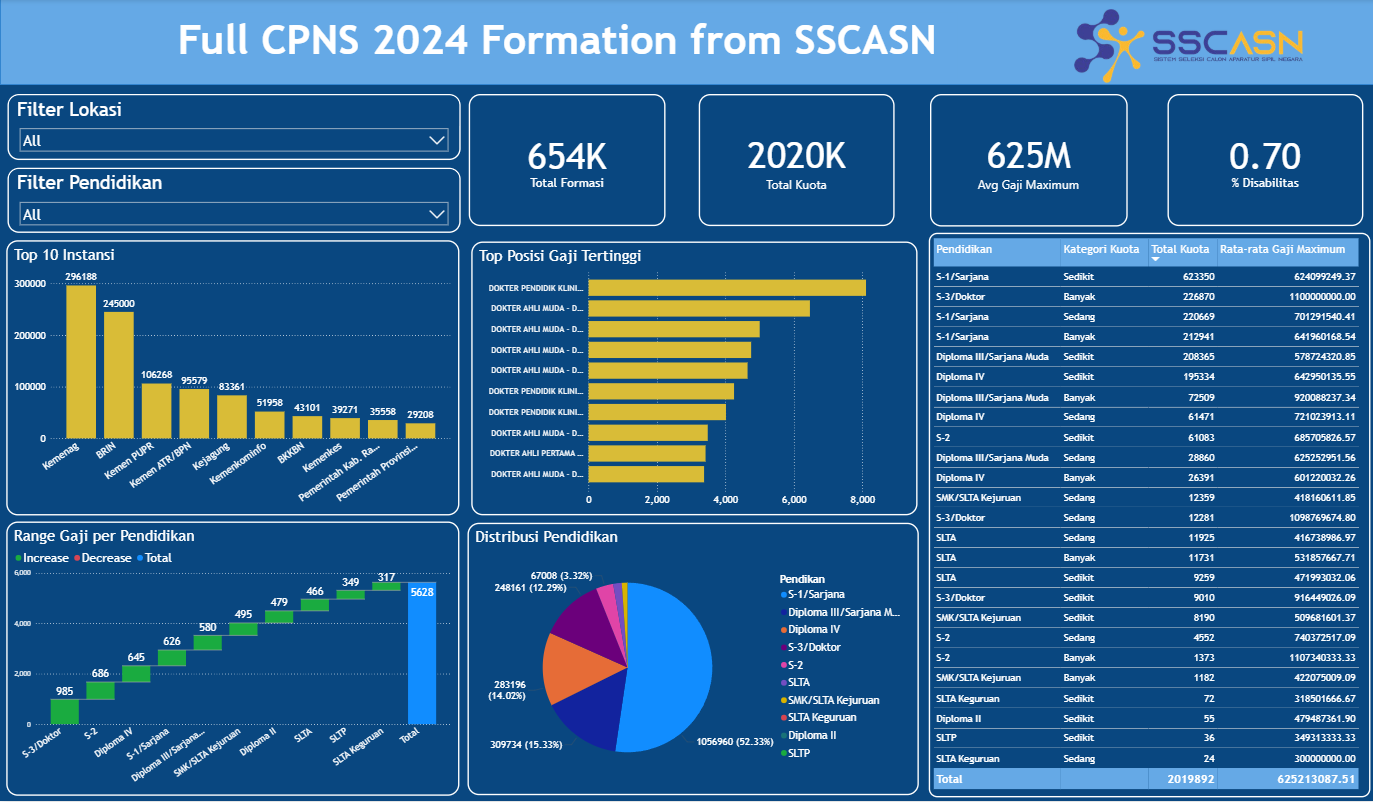

What the dashboard file says about the page in this screenshot:
{"tool":"powerbi","page":{"name":"Page 1","canvas":[2400,1400],"ordinal":0},"visuals":[{"type":"card","fields":{"Values":["vw_dashboard_simple_202511171455.Total Formasi"]},"box":[818.3,166.7,343.3,230],"z":0},{"type":"card","fields":{"Values":["vw_dashboard_simple_202511171455.Avg Gaji Maximum"]},"box":[1622.1,165.7,344.5,231.1],"z":1000},{"type":"pieChart","title":"Distribusi Pendidikan","fields":{"Category":["vw_dashboard_simple_202511171455.pendidikan"],"Y":["Sum(vw_dashboard_simple_202511171455.kuota)"]},"box":[815.4,913.5,787.1,475.3],"z":2000},{"type":"columnChart","title":"Top 10 Instansi","fields":{"Y":["Sum(vw_dashboard_simple_202511171455.kuota)"],"Category":["vw_dashboard_simple_202511171455.instansi_singkat"]},"box":[11.7,420,790,480],"z":3000},{"type":"card","fields":{"Values":["vw_dashboard_simple_202511171455.% Disabilitas"]},"box":[2036.7,166.7,341.7,230],"z":4000},{"type":"clusteredBarChart","title":"Top Posisi Gaji Tertinggi","fields":{"Category":["vw_dashboard_simple_202511171455.jabatan"],"Y":["vw_dashboard_simple_202511171455.Gaji JT"]},"box":[822,423,778.3,477.5],"z":5000},{"type":"waterfallChart","title":"Range Gaji per Pendidikan","fields":{"Category":["vw_dashboard_simple_202511171455.pendidikan"],"Y":["vw_dashboard_simple_202511171455.Gaji JT"]},"box":[11.7,911.7,790,478.3],"z":6000},{"type":"tableEx","fields":{"Values":["vw_dashboard_simple_202511171455.pendidikan","vw_dashboard_simple_202511171455.kategori_kuota","Sum(vw_dashboard_simple_202511171455.kuota)","Avg(vw_dashboard_simple_202511171455.gaji_maximum)"]},"box":[1620,408.3,770,985],"z":7000},{"type":"shape","box":[0,0,2400,150],"z":8000},{"type":"image","box":[1767.5,12.5,610,137.5],"z":9000},{"type":"textbox","box":[305,25,1365,115],"z":10000},{"type":"card","fields":{"Values":["vw_dashboard_simple_202511171455.Total Kuota"]},"box":[1218.3,166.7,341.7,230],"z":11000},{"type":"slicer","title":"Filter Lokasi","fields":{"Values":["vw_dashboard_simple_202511171455.lokasi"]},"box":[13.3,166.7,790,115],"z":12000},{"type":"slicer","title":"Filter Pendidikan","fields":{"Values":["vw_dashboard_simple_202511171455.pendidikan"]},"box":[13.3,295,790,113.3],"z":13000}]}

Visuals, with their boxes in screenshot pixels (x1, y1, x2, y2), scaled from the page's 2400x1400 canvas onto the 1373x802 screenshot:
card - vw_dashboard_simple_202511171455.Total Formasi: 468:95:665:227
card - vw_dashboard_simple_202511171455.Avg Gaji Maximum: 928:95:1125:227
"Distribusi Pendidikan" pieChart: 466:523:917:796
"Top 10 Instansi" columnChart: 7:241:459:516
card - vw_dashboard_simple_202511171455.% Disabilitas: 1165:95:1361:227
"Top Posisi Gaji Tertinggi" clusteredBarChart: 470:242:916:516
"Range Gaji per Pendidikan" waterfallChart: 7:522:459:796
tableEx - vw_dashboard_simple_202511171455.pendidikan x vw_dashboard_simple_202511171455.kategori_kuota: 927:234:1367:798
shape: 0:0:1372:86
image: 1011:7:1360:86
textbox: 174:14:955:80
card - vw_dashboard_simple_202511171455.Total Kuota: 697:95:892:227
"Filter Lokasi" slicer: 8:95:460:161
"Filter Pendidikan" slicer: 8:169:460:234
